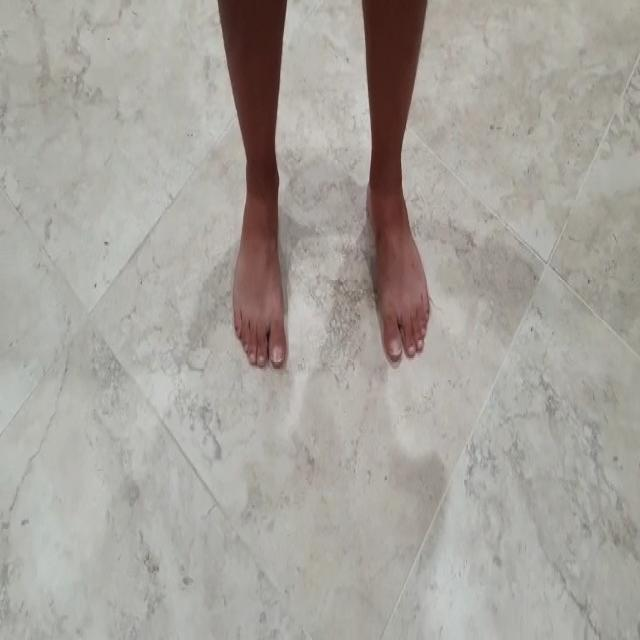no-boots: (227, 164, 300, 380), (362, 146, 433, 366)
